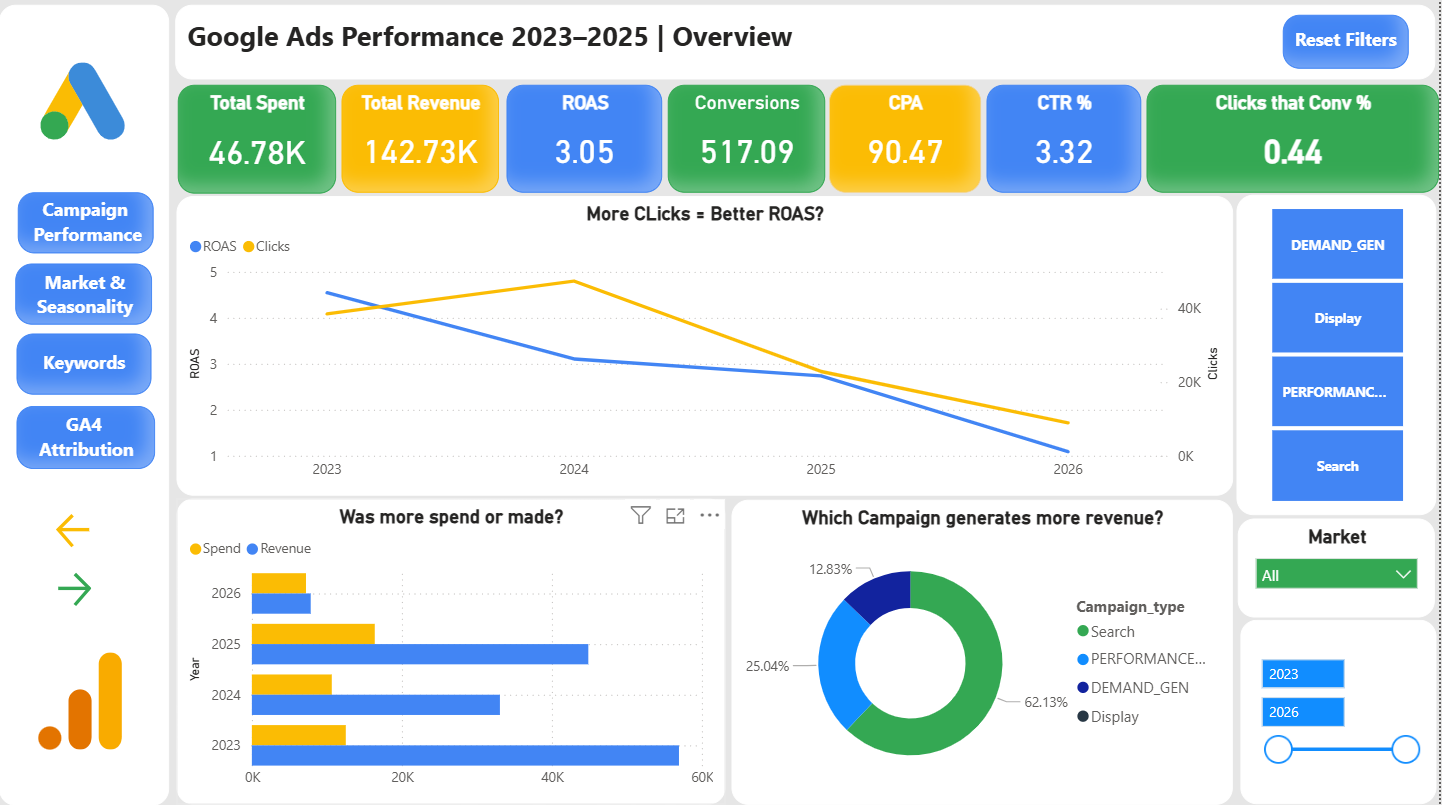

The dashboard page shown, as its layout file describes it:
{"tool":"powerbi","page":{"name":"Overview","canvas":[1280,720],"ordinal":0},"visuals":[{"type":"textbox","box":[157,8.1,1119.8,66.3],"z":0},{"type":"card","title":"Total Spent","fields":{"Values":["_Measures.total_spend"]},"box":[159.3,79.1,140.7,96.5],"z":1000},{"type":"card","title":"Total Revenue","fields":{"Values":["_Measures.total_revenue"]},"box":[304.3,79.2,140,96.3],"z":2000},{"type":"card","title":"ROAS","fields":{"Values":["_Measures.roas"]},"box":[450.6,79.2,138.8,96.3],"z":3000},{"type":"card","title":"Conversions","fields":{"Values":["_Measures.total_conversions"]},"box":[594.4,79.2,140,96.3],"z":4000},{"type":"card","title":"CPA","fields":{"Values":["_Measures.cpa"]},"box":[738.2,79.2,135,96.3],"z":5000},{"type":"lineChart","title":"More CLicks = Better ROAS?","fields":{"Category":["campaigns_clean.Year"],"Y":["_Measures.roas"],"Y2":["_Measures.total_clicks"]},"box":[157.8,177.8,938.9,266.7],"z":6000},{"type":"clusteredBarChart","title":"Was more spend or made?","fields":{"Category":["campaigns_clean.Year"],"Y":["_Measures.total_spend","_Measures.total_revenue"]},"box":[157.8,446.7,487.8,272.2],"z":7000},{"type":"donutChart","title":"Which Campaign generates more revenue?","fields":{"Category":["campaigns_clean.Campaign_type"],"Y":["_Measures.total_spend"]},"box":[651.1,447.8,445.6,271.1],"z":8000},{"type":"slicer","title":"Year","fields":{"Values":["campaigns_clean.Year"]},"box":[1103.5,554.7,174.4,164],"z":9000},{"type":"textbox","box":[0,8.1,151.2,711.6],"z":10000},{"type":"image","box":[37.2,0,75.6,187.2],"z":11000},{"type":"slicer","fields":{"Values":["campaigns_clean.Campaign_type"]},"box":[1100,176.7,177.9,284.9],"z":12000},{"type":"slicer","title":"Market","fields":{"Values":["campaigns_clean.market"]},"box":[1101.2,464,175.6,88.4],"z":13000},{"type":"card","title":"CTR %","fields":{"Values":["_Measures.ctr_pct"]},"box":[878.2,79.2,137.5,96.3],"z":14000},{"type":"card","title":"Clicks that Conv %","fields":{"Values":["_Measures.click_to_conv_pct"]},"box":[1019.5,79.2,260.1,96.3],"z":15000},{"type":"textbox","box":[14.9,238.2,121.8,54.1],"z":16000},{"type":"textbox","box":[16.3,174.4,120.9,54.7],"z":17000},{"type":"textbox","box":[17.4,173.3,122.1,79.1],"z":18000},{"type":"textbox","box":[18.9,238.2,115,67.7],"z":19000},{"type":"textbox","box":[15.1,300,119.8,54.7],"z":20000},{"type":"textbox","box":[15.1,364,123.3,55.8],"z":21000},{"type":"textbox","box":[23.3,309.3,104.7,41.9],"z":22000},{"type":"textbox","box":[4.7,364,146.5,55.8],"z":23000},{"type":"textbox","box":[1140.7,16.3,111.6,47.7],"z":24000},{"type":"textbox","box":[1146.5,22.1,112.8,43],"z":25000},{"type":"image","box":[34.9,566.3,75.6,119.8],"z":26000},{"type":"actionButton","box":[46.5,455.8,100,39.5],"z":27000},{"type":"actionButton","box":[46.5,508.1,100,39.5],"z":28000}]}

Visuals, with their boxes in screenshot pixels (x1, y1, x2, y2), scaled from the page's 1280x720 canvas onto the 1442x805 screenshot:
textbox: 177, 9, 1438, 83
"Total Spent" card: 179, 88, 338, 196
"Total Revenue" card: 343, 89, 501, 196
"ROAS" card: 508, 89, 664, 196
"Conversions" card: 670, 89, 827, 196
"CPA" card: 832, 89, 984, 196
"More CLicks = Better ROAS?" lineChart: 178, 199, 1236, 497
"Was more spend or made?" clusteredBarChart: 178, 499, 727, 804
"Which Campaign generates more revenue?" donutChart: 734, 501, 1236, 804
"Year" slicer: 1243, 620, 1440, 804
textbox: 0, 9, 170, 804
image: 42, 0, 127, 209
slicer - campaigns_clean.Campaign_type: 1239, 198, 1440, 516
"Market" slicer: 1241, 519, 1438, 618
"CTR %" card: 989, 89, 1144, 196
"Clicks that Conv %" card: 1149, 89, 1441, 196
textbox: 17, 266, 154, 327
textbox: 18, 195, 155, 256
textbox: 20, 194, 157, 282
textbox: 21, 266, 151, 342
textbox: 17, 335, 152, 397
textbox: 17, 407, 156, 469
textbox: 26, 346, 144, 393
textbox: 5, 407, 170, 469
textbox: 1285, 18, 1411, 72
textbox: 1292, 25, 1419, 73
image: 39, 633, 124, 767
actionButton: 52, 510, 165, 554
actionButton: 52, 568, 165, 612
